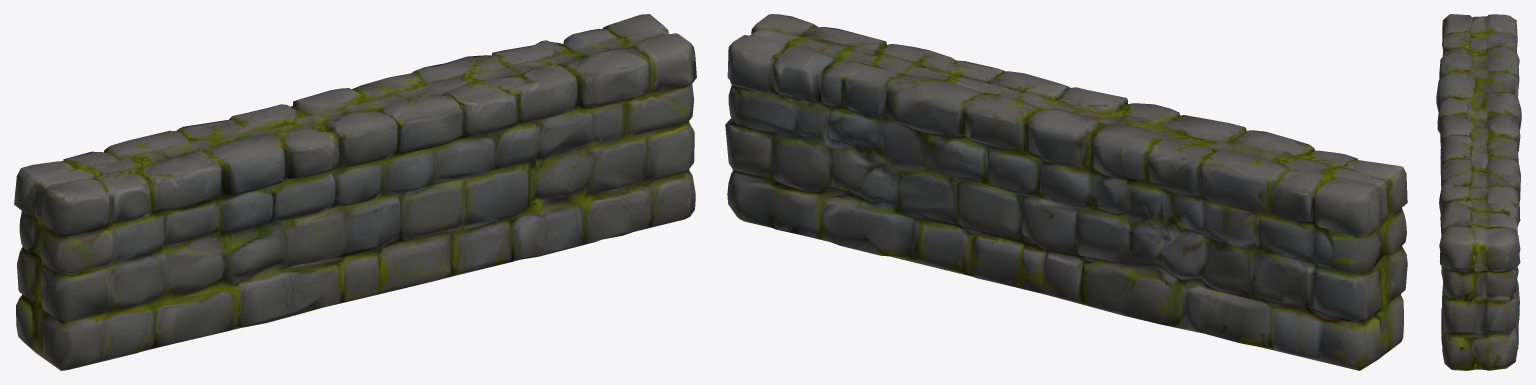
Rendered from ward_wall.glb.
3 renders of one model, left to right at view 1: azimuth 30°, elevation 25°; view 2: azimuth 150°, elevation 25°; view 3: azimuth 270°, elevation 25°, orthographic. The views are drawn at different scales.
Visible parts, largest first — view 1: tripo_node_973e2938-e26e-4efc-b7d0-02803f8e746b; view 2: tripo_node_973e2938-e26e-4efc-b7d0-02803f8e746b; view 3: tripo_node_973e2938-e26e-4efc-b7d0-02803f8e746b.
Boxes of the visible parts, x1,y1,x2,y2 form: tripo_node_973e2938-e26e-4efc-b7d0-02803f8e746b: [14, 14, 696, 370]; tripo_node_973e2938-e26e-4efc-b7d0-02803f8e746b: [725, 14, 1407, 370]; tripo_node_973e2938-e26e-4efc-b7d0-02803f8e746b: [1436, 14, 1521, 370].
Size of the model in its own units: 7.66 by 2 by 1.19.
Materials: 1 (1 with a texture image).
